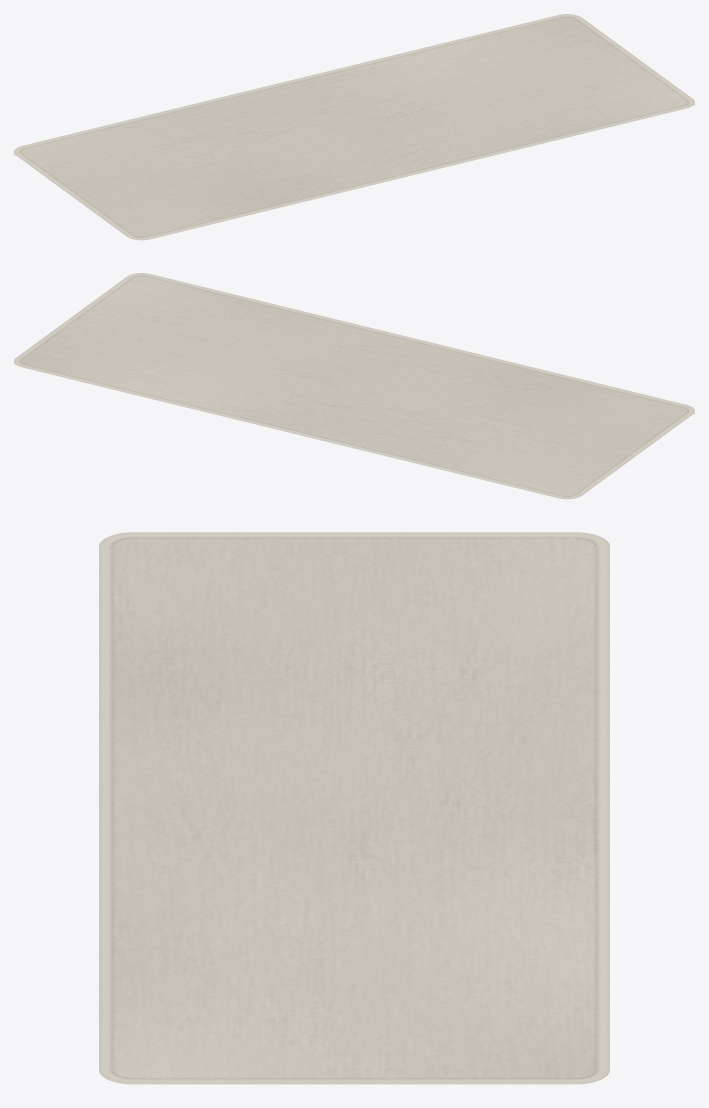
Rendered from ivory_kitchen_r90.glb.
3 renders of one model, top to bottom at view 1: azimuth 30°, elevation 25°; view 2: azimuth 150°, elevation 25°; view 3: azimuth 270°, elevation 25°, orthographic. The views are drawn at different scales.
Parts seen in each view (by area): view 1: reliv_ivory_kitchen_r90; view 2: reliv_ivory_kitchen_r90; view 3: reliv_ivory_kitchen_r90.
Part boxes in pixels (box(x1,y1,x2,y2)): reliv_ivory_kitchen_r90: box(14, 14, 694, 240); reliv_ivory_kitchen_r90: box(14, 273, 694, 499); reliv_ivory_kitchen_r90: box(99, 532, 609, 1084).
Bounding box in the file's own units: 1.15 × 0.009 × 0.45.
2 materials, 1 textured.
